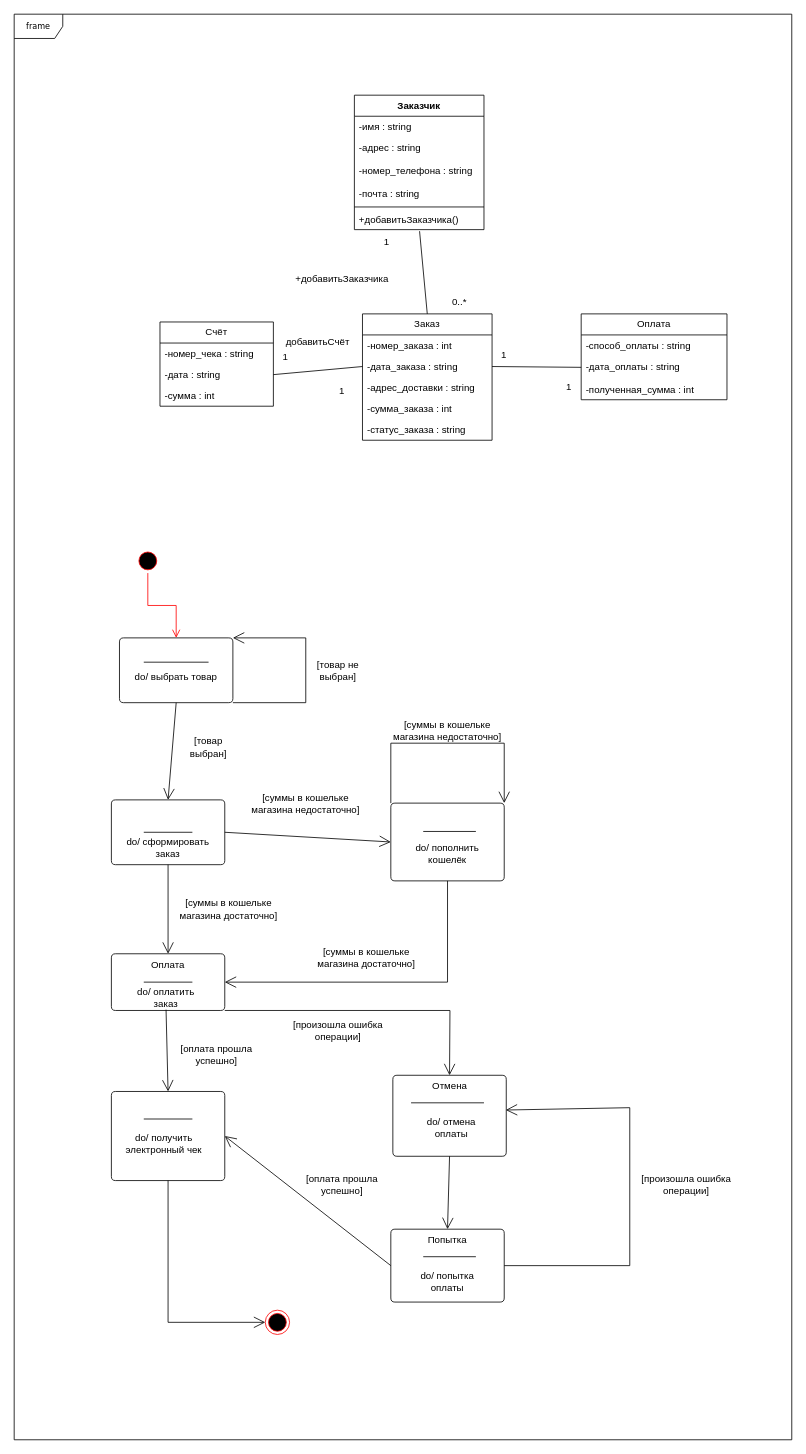
The diagram is 806 pixels wide and 1454 high, and some of its shapes have lost their labels. Each missing label, with the box of its shape:
Выбор товара: (119, 637, 233, 703)
Оформление заказа: (111, 799, 225, 865)
Пополнение счёта: (390, 802, 504, 881)
Чек об оплате: (111, 1091, 225, 1181)
